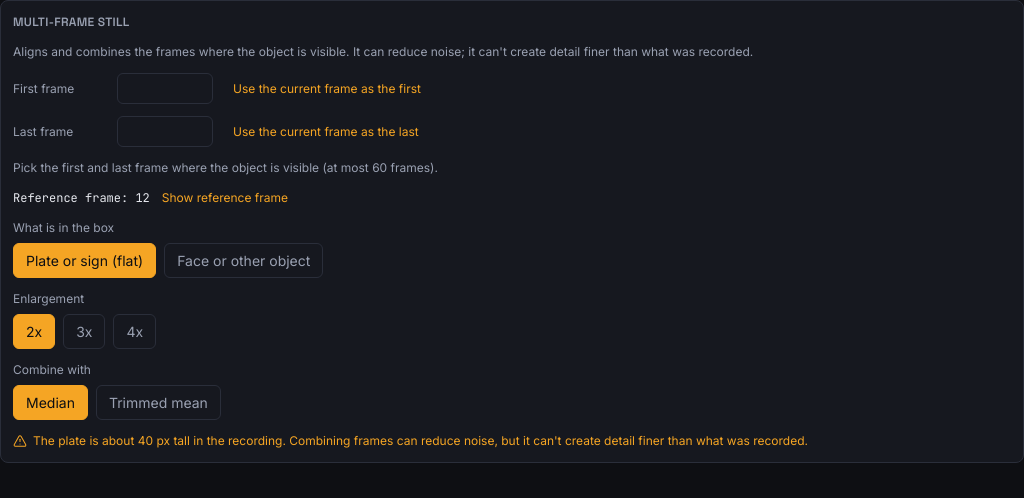
Test: RoiFusionPanel › warns live when a face is narrower than about 40 recorded pixels
The width and height of the screenshot is (1024, 498).
Click the radio button labelled "Face or other object" at {"x": 244, "y": 260}, box [164,243,323,278]
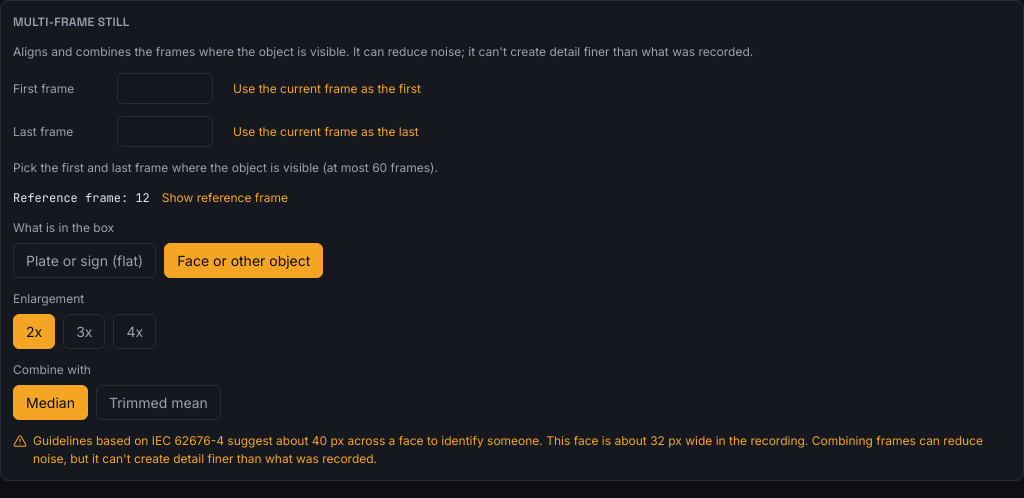
Expected: the text "This face is about 32 px wide in the recording." is shown, [33,433,983,466]
